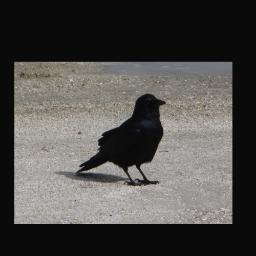Crow: (74, 92, 169, 187)
